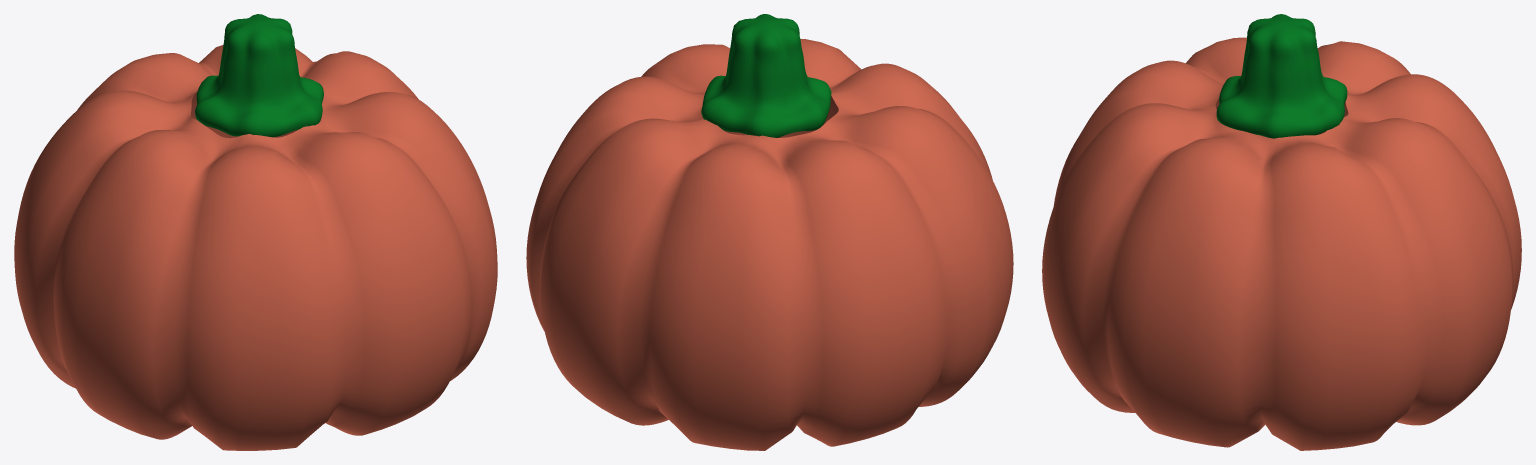
Rendered from kim-kue.glb.
3 views of the same model, side by side, from view 1: azimuth 30°, elevation 25°; view 2: azimuth 150°, elevation 25°; view 3: azimuth 270°, elevation 25° (orthographic).
Visible parts, largest first — view 1: object; view 2: object; view 3: object.
Boxes of the visible parts, box(x1,y1,x2,y2) form: object: box(14, 14, 497, 450); object: box(526, 14, 1013, 450); object: box(1042, 14, 1521, 450).
Size of the model in its own units: 1.85 by 1.54 by 1.85.
